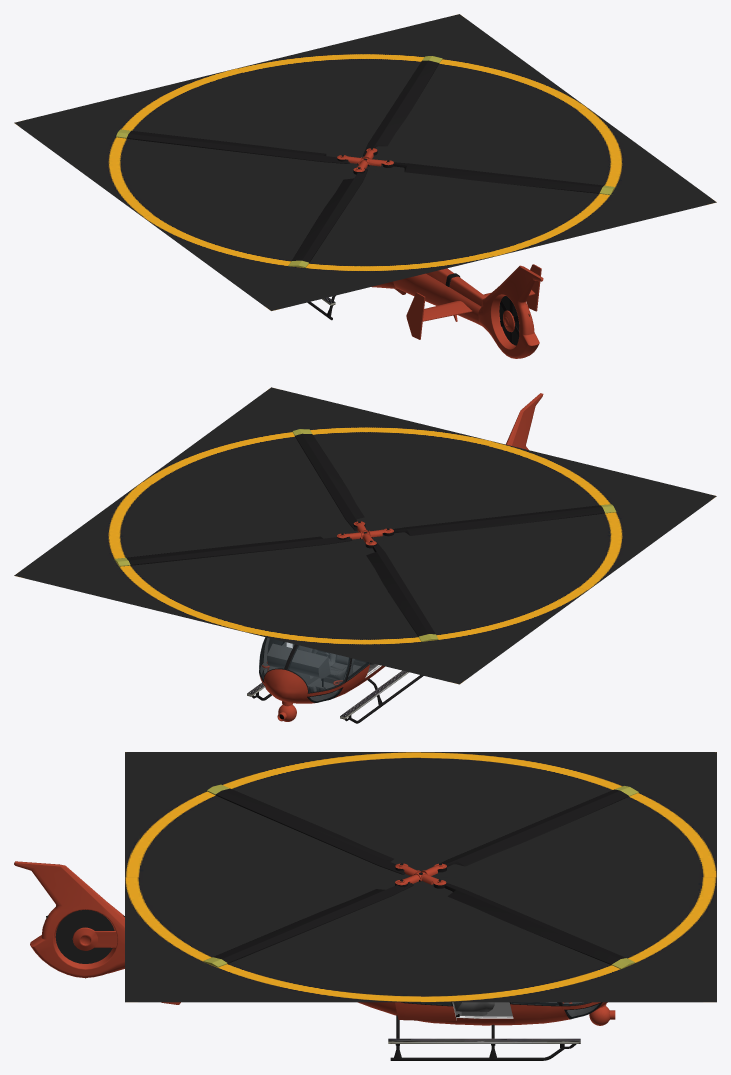
The model's file is frogger.glb.
The picture shows the model from 3 angles, top to bottom: view 1: azimuth 30°, elevation 25°; view 2: azimuth 150°, elevation 25°; view 3: azimuth 270°, elevation 25°; orthographic projection. The views are drawn at different scales.
Visible parts, largest first — view 1: rotor_main_fast, rotor_main_slow, tail; view 2: rotor_main_fast, rotor_main_slow, chassis, windscreen, bodyshell, windscreen_l, suspension_lf, tail; view 3: rotor_main_fast, rotor_main_slow, tail, bodyshell, suspension_rf, rotor_rear_fast, chassis, door_pside_f.
Part boxes in pixels (x1,y1,x2,y2): rotor_main_fast: (14, 14, 716, 310); rotor_main_slow: (116, 56, 614, 267); tail: (393, 264, 543, 358); rotor_main_fast: (14, 387, 716, 684); rotor_main_slow: (114, 429, 616, 641); chassis: (259, 637, 381, 702); windscreen: (288, 645, 349, 692); bodyshell: (260, 658, 384, 706); windscreen_l: (259, 637, 294, 680); suspension_lf: (340, 670, 423, 723); tail: (506, 393, 543, 449); rotor_main_fast: (125, 752, 716, 1002); rotor_main_slow: (203, 784, 638, 968); tail: (14, 861, 180, 1004); bodyshell: (358, 1002, 607, 1025); suspension_rf: (388, 1015, 580, 1060); rotor_rear_fast: (46, 909, 124, 978); chassis: (453, 1002, 602, 1019); door_pside_f: (509, 1002, 572, 1018).
Size of the model in its own units: 10.46 by 3.36 by 12.42.
Materials: 10 (3 with a texture image).
